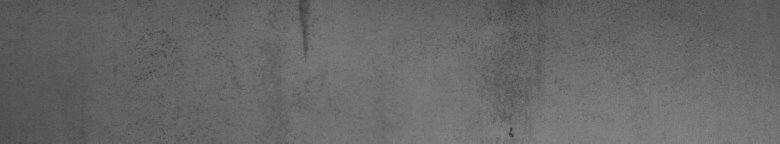ib: (114, 8, 229, 82)
